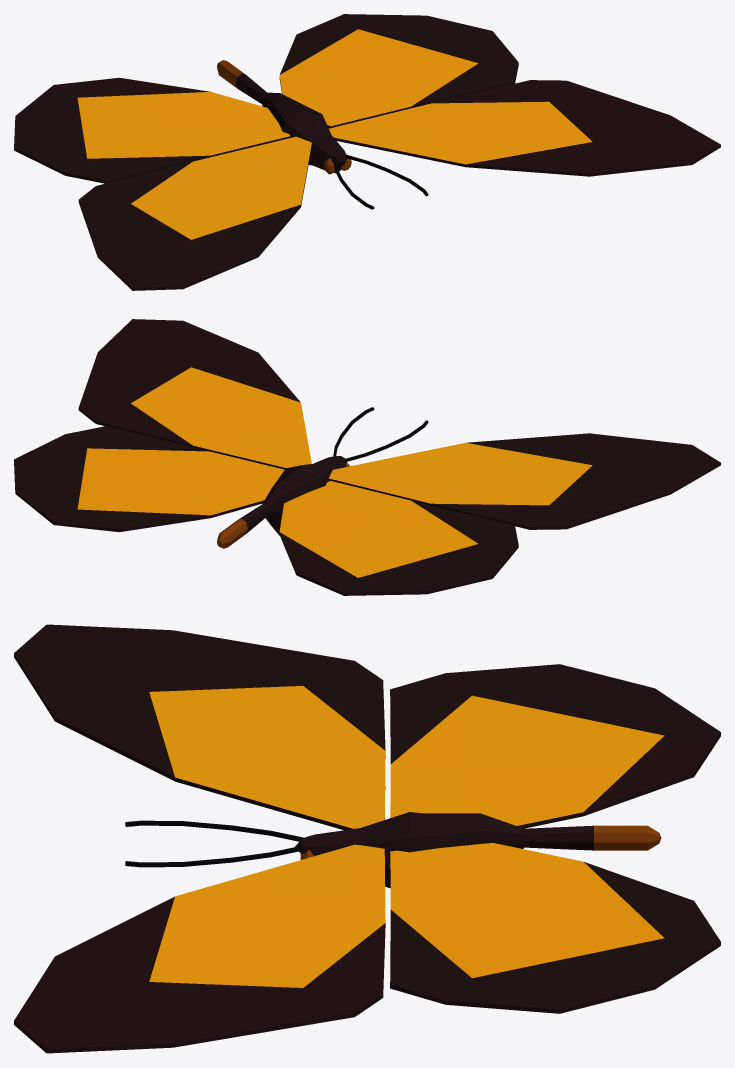
File: eZBvUobx7mb.glb
The picture shows the model from 3 angles, top to bottom: view 1: azimuth 30°, elevation 25°; view 2: azimuth 150°, elevation 25°; view 3: azimuth 270°, elevation 25°; orthographic projection. The views are drawn at different scales.
Visible parts, largest first — view 1: Geo_Butterfly; view 2: Geo_Butterfly; view 3: Geo_Butterfly.
Boxes of the visible parts, bbox=[...] form: Geo_Butterfly: bbox=[14, 14, 720, 290]; Geo_Butterfly: bbox=[14, 319, 720, 595]; Geo_Butterfly: bbox=[14, 624, 720, 1053].
Bounding box in the file's own units: 11.42 × 0.9993 × 8.03.
1 material, 1 textured.
